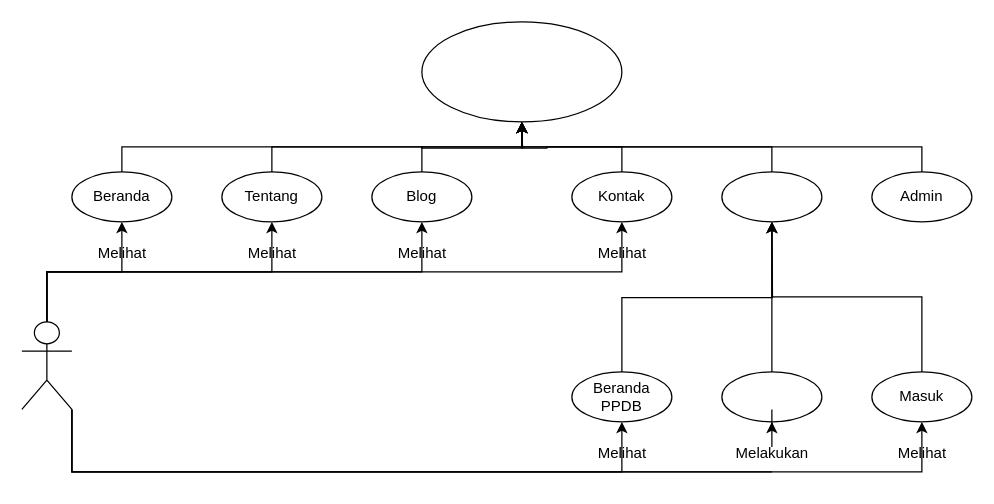
Some shapes in this 994 by 504 pixel diagram are drawn without their labels. Here are the shapes that lost their labels. From the top down, the box of each, then its label:
(421, 21, 622, 122): Landing Page
(721, 171, 822, 222): PPDB
(21, 321, 72, 409): Actor
(721, 371, 822, 422): Daftar
